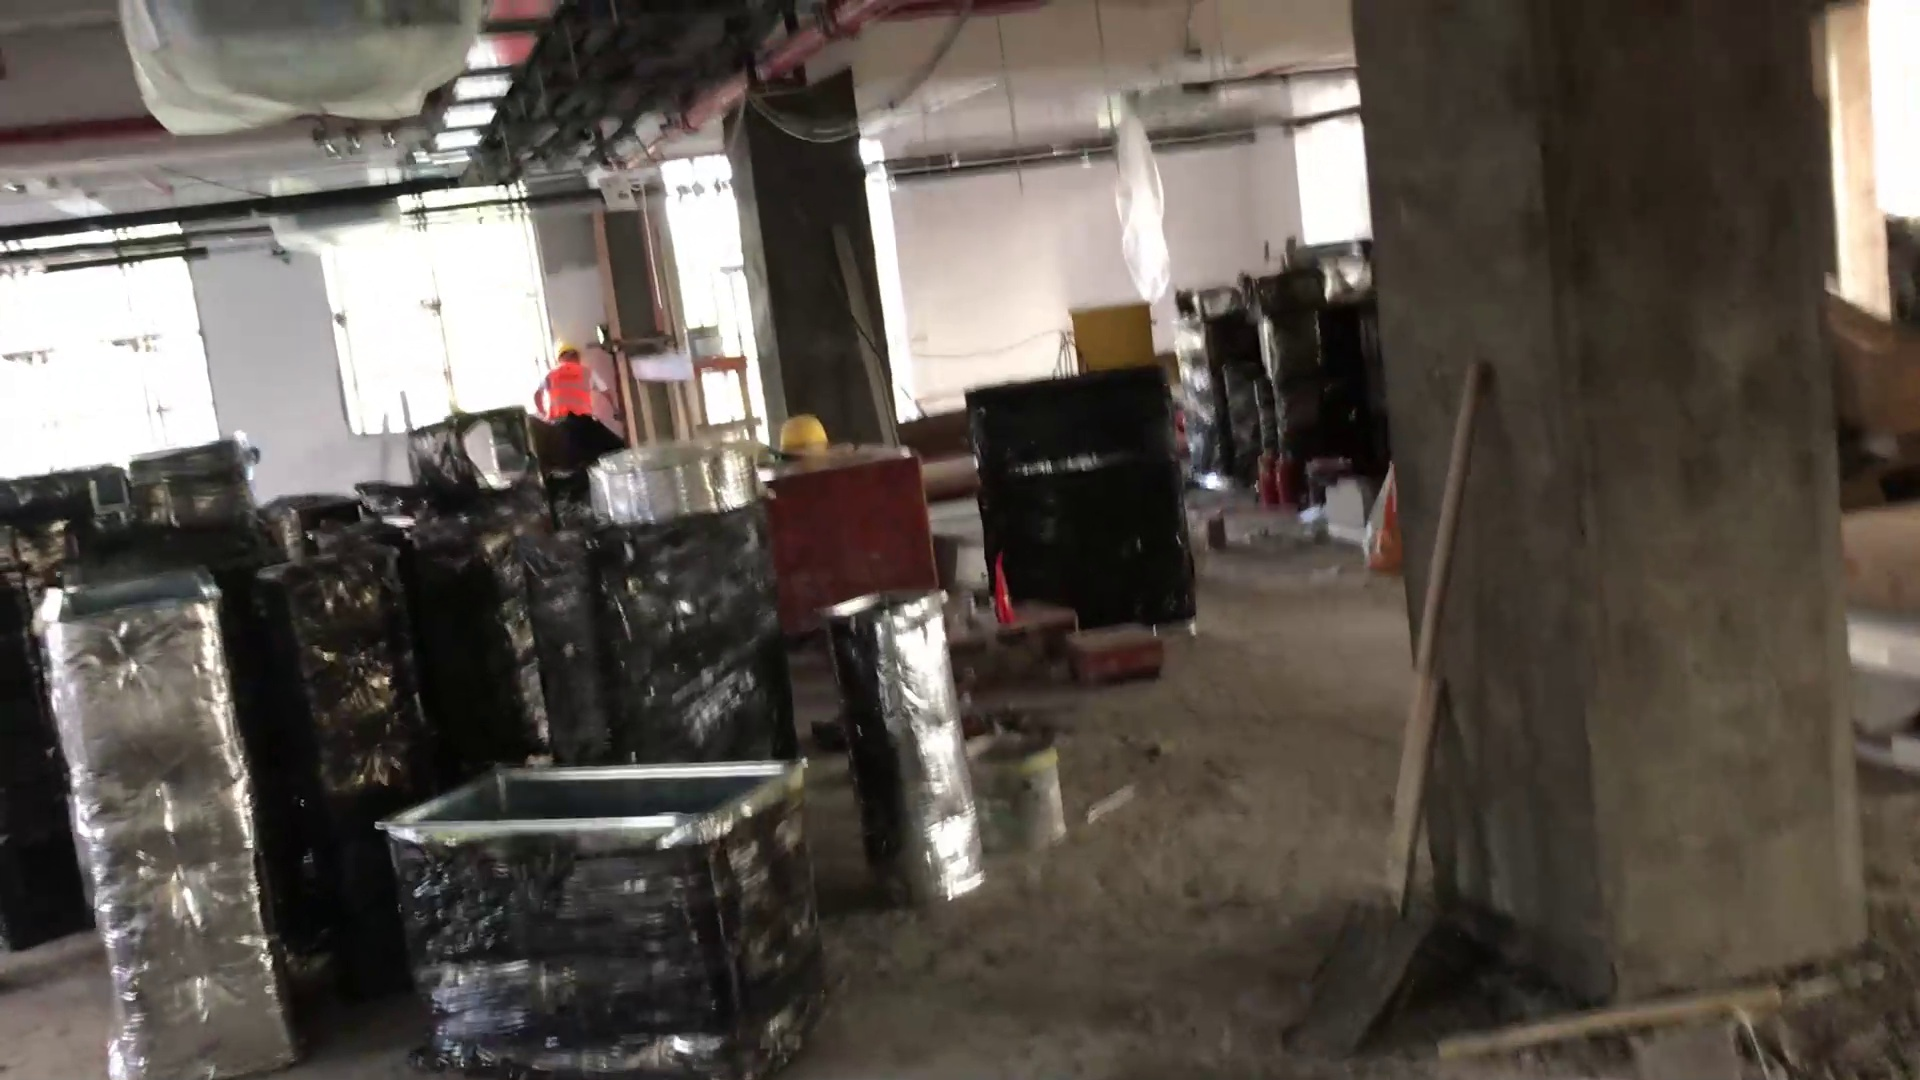helmet: (761, 405, 834, 453), (553, 341, 593, 357)
person: (532, 328, 629, 459)
vest: (547, 367, 595, 420)
